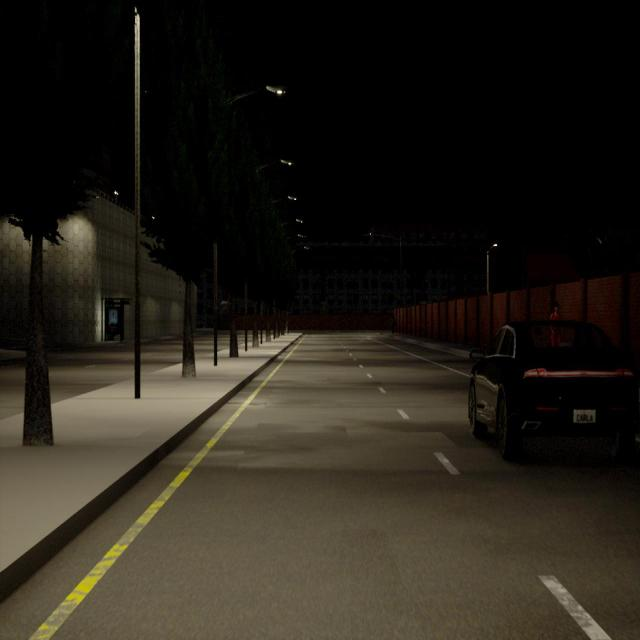Pedestrian: (548, 302, 562, 348)
Vehicle: (468, 320, 638, 459)
